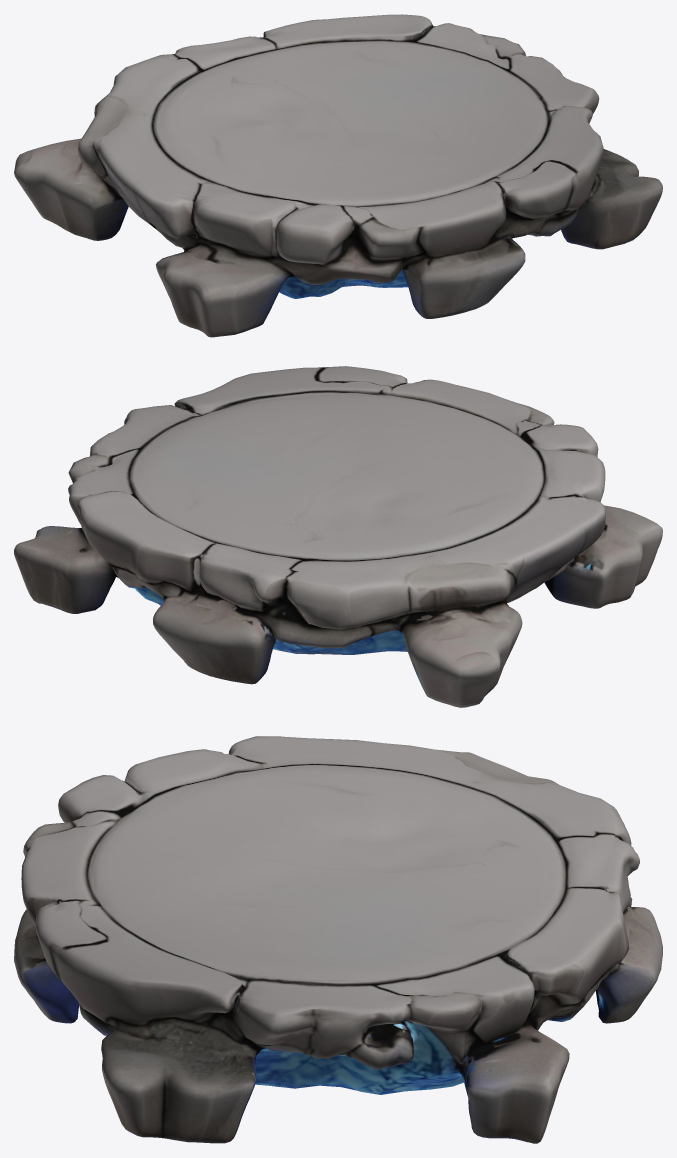
File: FlyingArena.fbx
3 views of the same model, one above another, from view 1: azimuth 30°, elevation 25°; view 2: azimuth 150°, elevation 25°; view 3: azimuth 270°, elevation 25° (orthographic). The views are drawn at different scales.
Parts seen in each view (by area): view 1: tripo_node_4817404e; view 2: tripo_node_4817404e; view 3: tripo_node_4817404e.
Part boxes in pixels (<box>): tripo_node_4817404e: <box>14,14,662,337</box>; tripo_node_4817404e: <box>14,366,662,707</box>; tripo_node_4817404e: <box>14,736,662,1143</box>.
Size of the model in its own units: 0.9925 by 0.2472 by 0.9334.
Materials: 1 (1 with a texture image).
